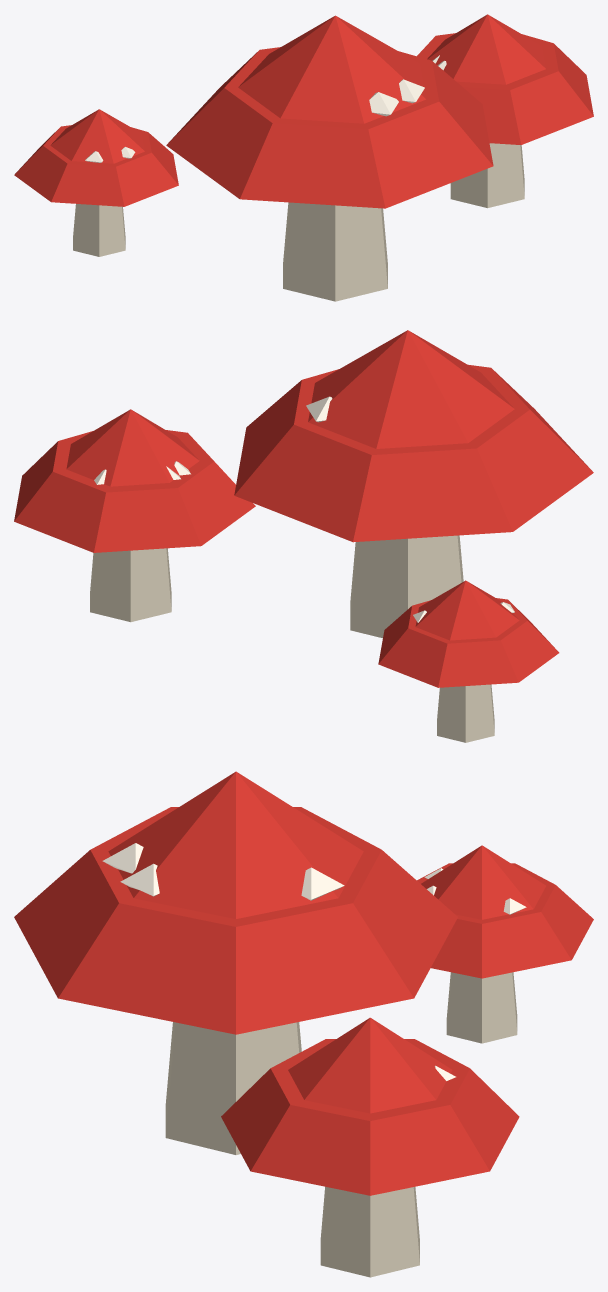
Rendered from Mushrooms_Red.fbx.
The picture shows the model from 3 angles, top to bottom: view 1: azimuth 30°, elevation 25°; view 2: azimuth 150°, elevation 25°; view 3: azimuth 270°, elevation 25°; orthographic projection. The views are drawn at different scales.
Parts seen in each view (by area): view 1: Mushrooms_Red; view 2: Mushrooms_Red; view 3: Mushrooms_Red.
Boxes of the visible parts, x1,y1,x2,y2 form: Mushrooms_Red: (14, 14, 593, 301); Mushrooms_Red: (14, 330, 593, 742); Mushrooms_Red: (14, 771, 593, 1277).
Bounding box in the file's own units: 0.7094 × 0.3448 × 0.5186.
